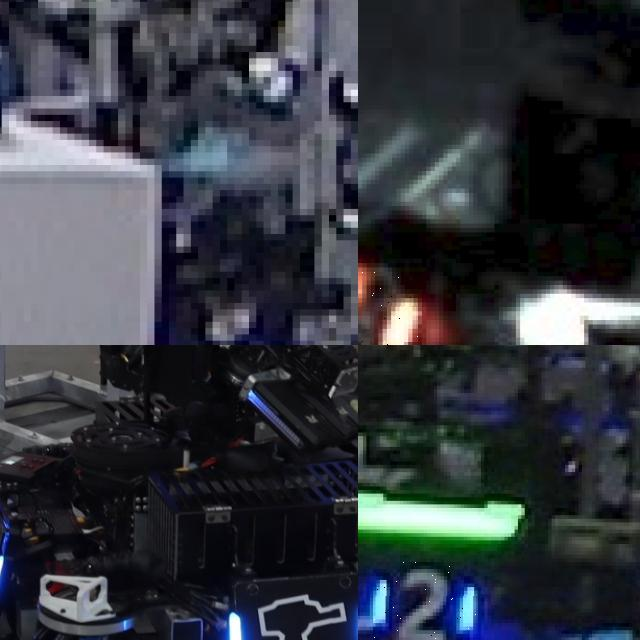B2: (373, 561, 477, 640)
Bs: (229, 583, 358, 640), (0, 505, 9, 601)
Rs: (358, 272, 417, 345)
